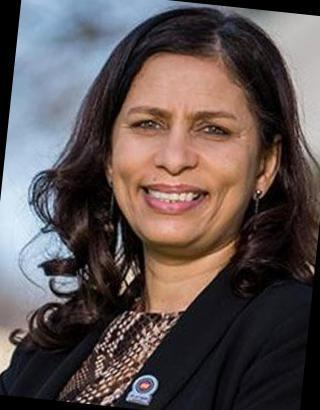Sober: (119, 63, 254, 244)
